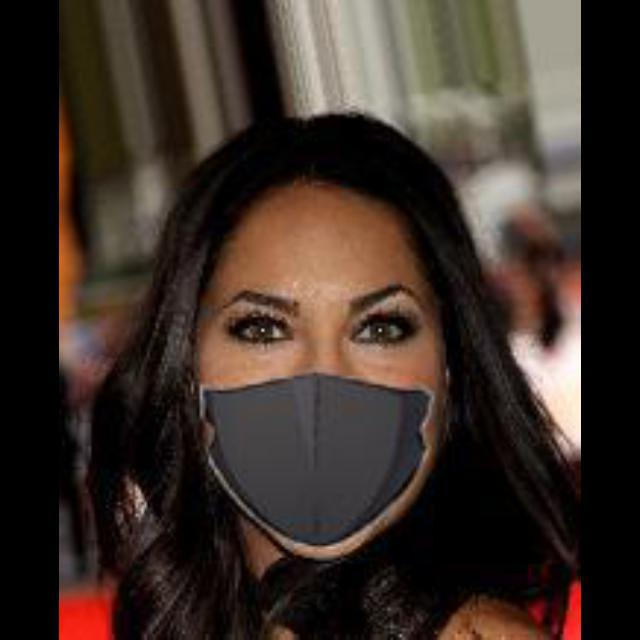suspicion: (163, 109, 532, 531)
